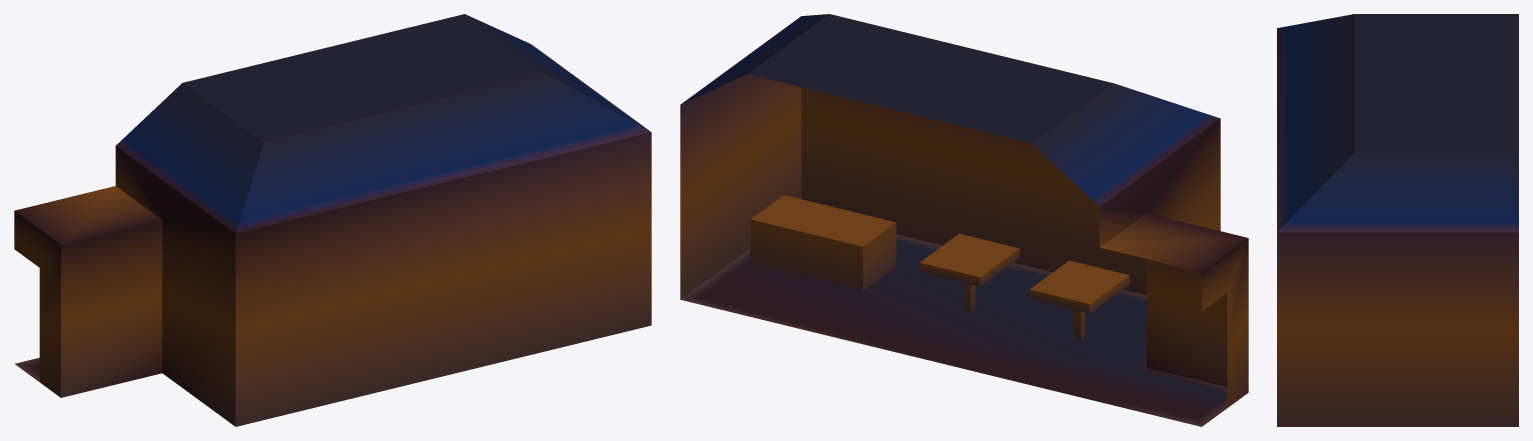
Rendered from restuarant_interior.obj.
3 renders of one model, left to right at view 1: azimuth 30°, elevation 25°; view 2: azimuth 150°, elevation 25°; view 3: azimuth 270°, elevation 25°, orthographic.
Visible parts, largest first — view 1: restuarant_interior; view 2: restuarant_interior; view 3: restuarant_interior.
Boxes of the visible parts, left/top/right/bottom form: restuarant_interior: left=14, top=14, right=651, bottom=426; restuarant_interior: left=680, top=14, right=1248, bottom=426; restuarant_interior: left=1277, top=14, right=1518, bottom=426.
Bounding box in the file's own units: 16.8 × 7.51 × 6.76.
